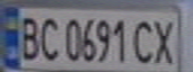0: (60, 15, 81, 63)
1: (109, 15, 130, 63)
6: (78, 15, 96, 63)
9: (93, 16, 115, 63)
B: (15, 11, 42, 61)
C: (36, 12, 63, 62), (130, 15, 157, 64)
X: (148, 15, 184, 65)
